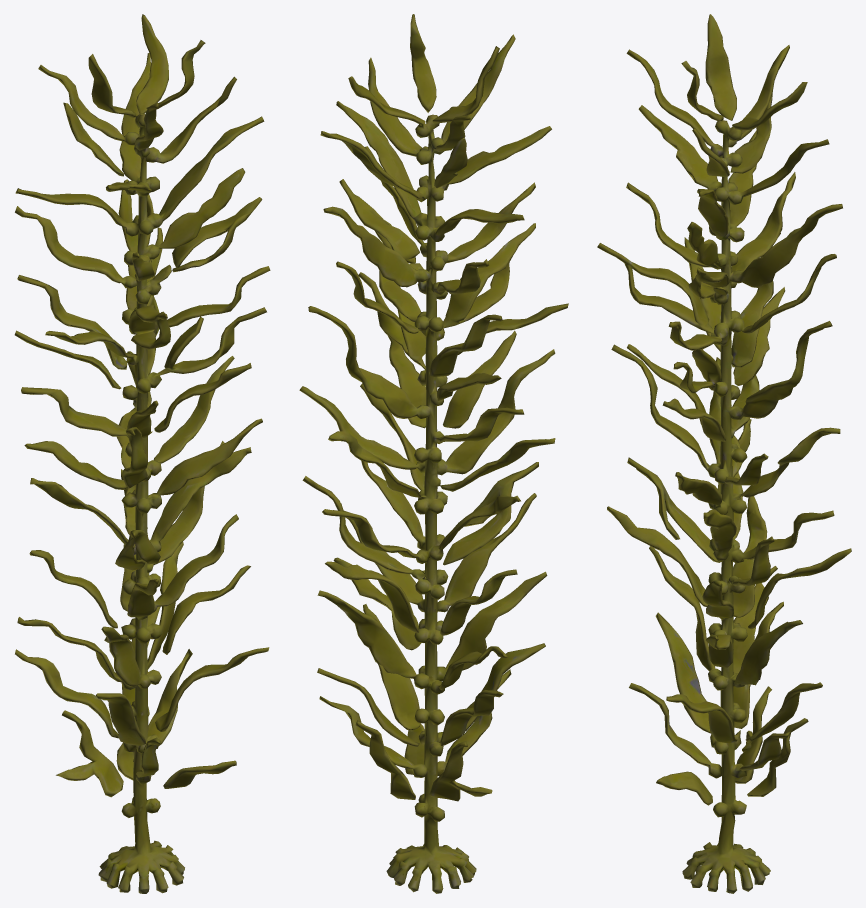
Rendered from kelp.glb.
3 renders of one model, left to right at view 1: azimuth 30°, elevation 25°; view 2: azimuth 150°, elevation 25°; view 3: azimuth 270°, elevation 25°, orthographic.
Visible parts, largest first — view 1: tripo_node_1467a584-6839-40fd-b331-6b3ccf044696; view 2: tripo_node_1467a584-6839-40fd-b331-6b3ccf044696; view 3: tripo_node_1467a584-6839-40fd-b331-6b3ccf044696.
Part boxes in pixels (bbox=[...]): tripo_node_1467a584-6839-40fd-b331-6b3ccf044696: bbox=[14, 14, 270, 893]; tripo_node_1467a584-6839-40fd-b331-6b3ccf044696: bbox=[299, 14, 568, 893]; tripo_node_1467a584-6839-40fd-b331-6b3ccf044696: bbox=[597, 14, 851, 893].
Size of the model in its own units: 0.2884 by 1 by 0.2763.
Materials: 1 (1 with a texture image).
